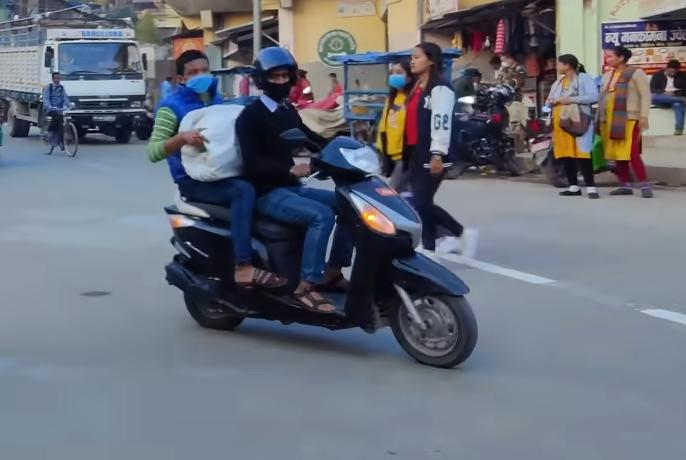scooter: (154, 118, 489, 375)
